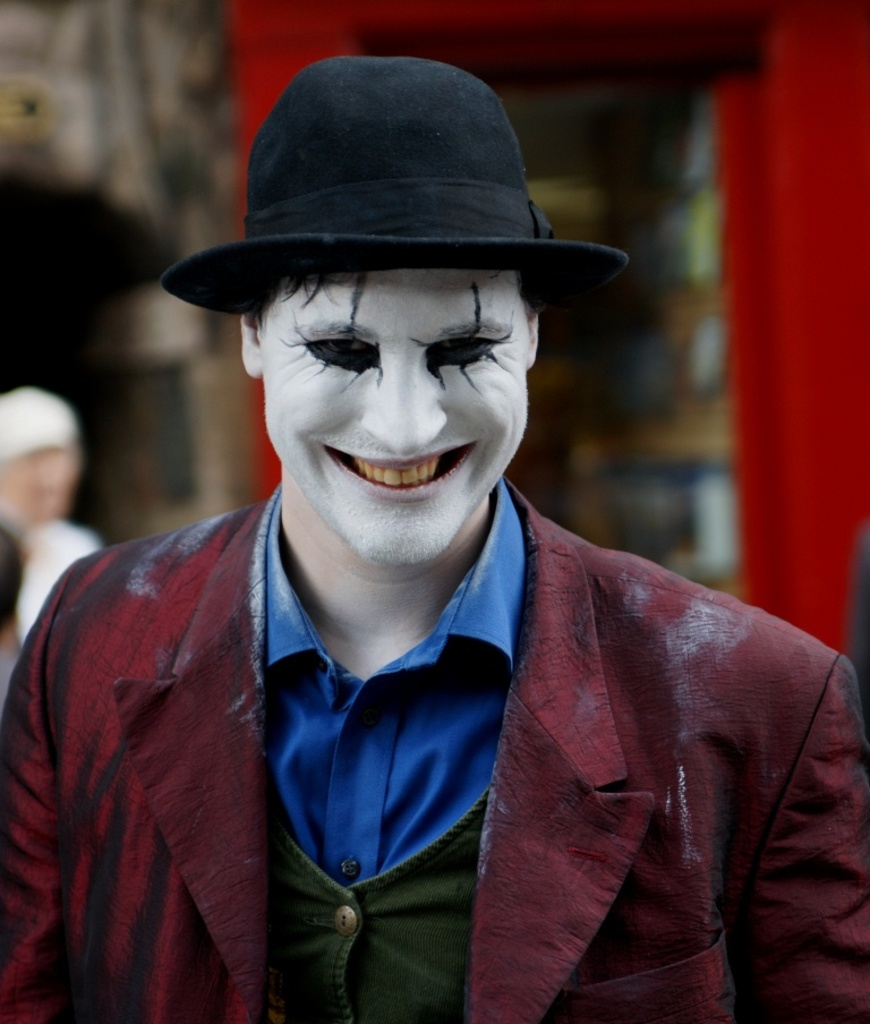person: (0, 384, 105, 648)
